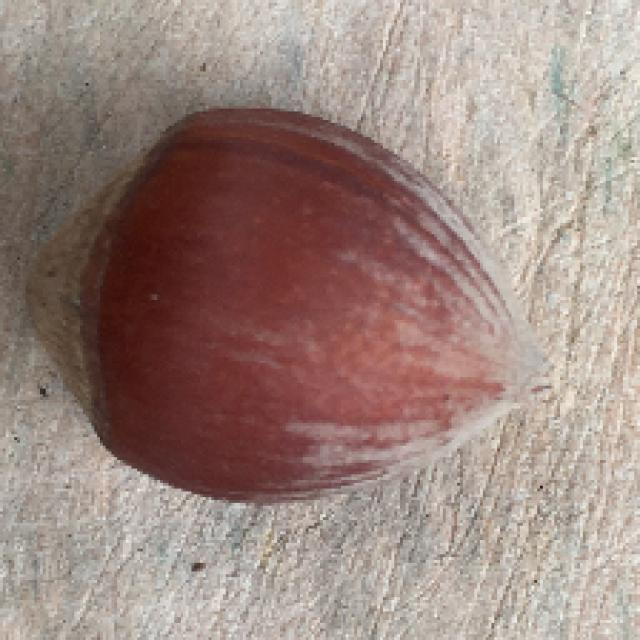qualityHazelnut: (22, 97, 537, 513)
